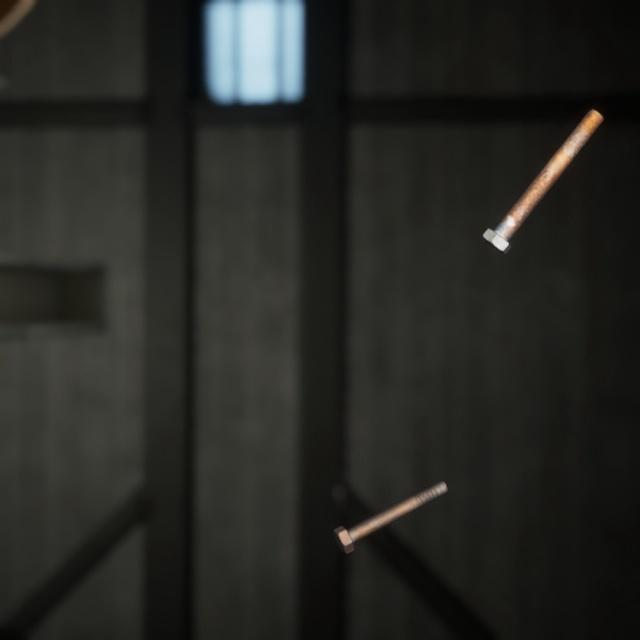bolt: (478, 90, 608, 244), (329, 456, 452, 537)
